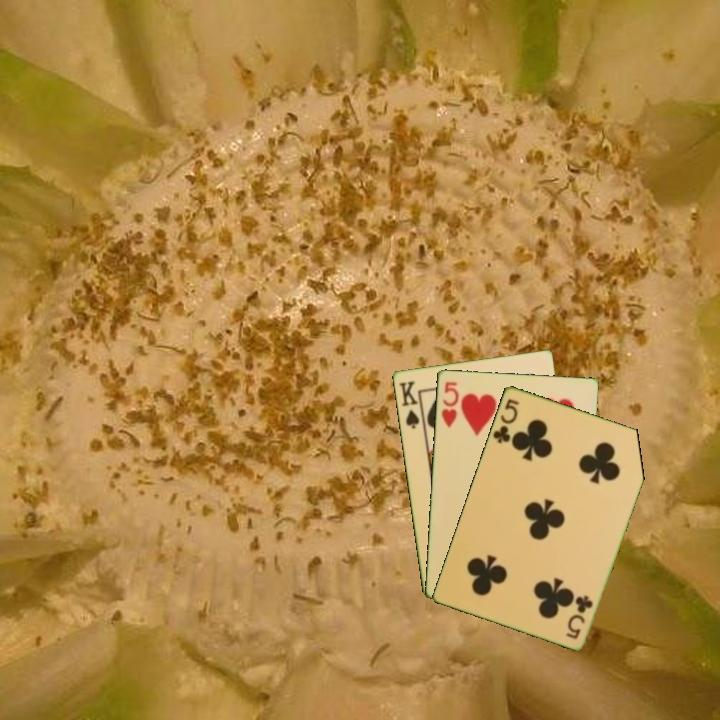5c: (562, 591, 596, 642), (489, 395, 522, 446)
5h: (438, 378, 461, 430)
Ks: (395, 377, 425, 431)
